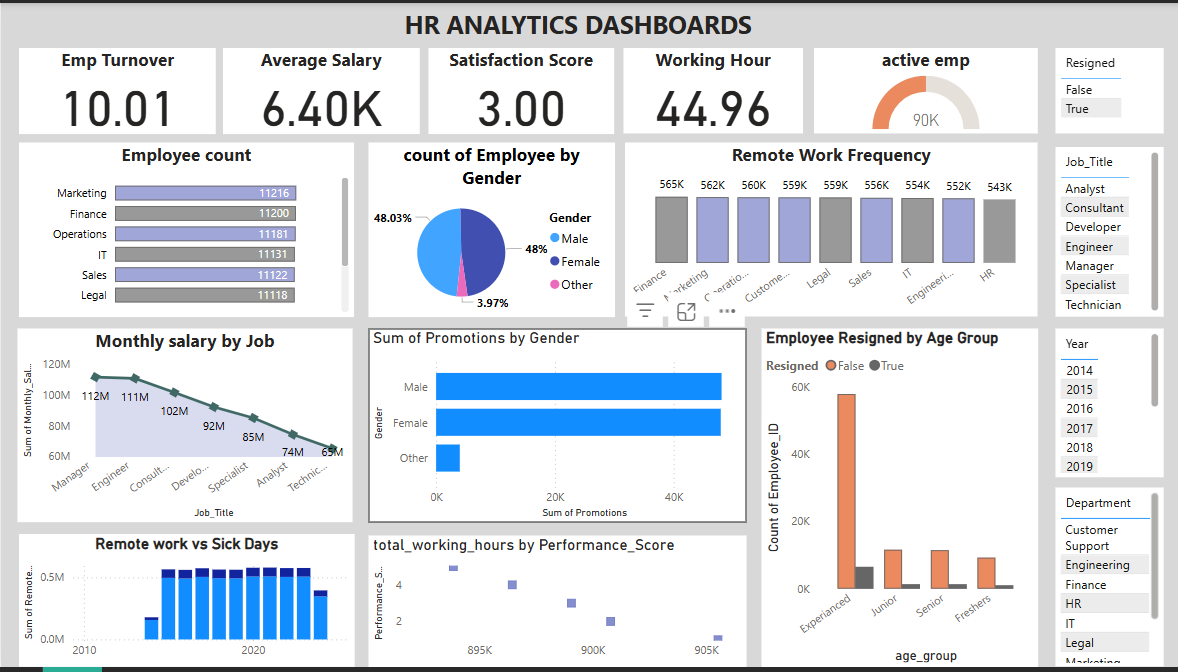

This screenshot's page, from the dashboard's own definition file:
{"tool":"powerbi","page":{"name":"Page 1","canvas":[1280,720],"ordinal":0},"visuals":[{"type":"gauge","fields":{"Y":["Sheet1.active emp"]},"box":[881.4,48.6,242.9,92.9],"z":0},{"type":"card","title":"Emp Turnover","fields":{"Values":["Sheet1.emp_turnover"]},"box":[20,48,213,93],"z":1000},{"type":"card","title":"Average Salary","fields":{"Values":["Sheet1.avg_sal"]},"box":[241,48,213,93],"z":2000},{"type":"card","title":"Satisfaction Score","fields":{"Values":["Sheet1.avg_emp_sat_sco"]},"box":[464,48,201,93],"z":3000},{"type":"card","title":"Working Hour","fields":{"Values":["Sheet1.avg_work_hours_week"]},"box":[675.5,48.2,194.5,92.7],"z":4000},{"type":"clusteredBarChart","title":"Employee count","fields":{"Category":["Sheet1.Department"],"Y":["Sheet1.emp_count"]},"box":[20,152,363,189],"z":5000},{"type":"pieChart","title":"count of Employee by Gender","fields":{"Category":["Sheet1.Gender"],"Y":["CountNonNull(Sheet1.Employee_ID)"]},"box":[398,152,267,189],"z":6000},{"type":"areaChart","title":"Monthly salary by Job","fields":{"Category":["Sheet1.Job_Title"],"Y":["Sum(Sheet1.Monthly_Salary)"]},"box":[18.3,353.3,363.3,210],"z":7000},{"type":"scatterChart","fields":{"X":["Sheet1.total_working_hours"],"Y":["Sheet1.Performance_Score"]},"box":[398.6,577.1,410,142.9],"z":8000},{"type":"clusteredColumnChart","title":"Remote Work Frequency","fields":{"Category":["Sheet1.Department"],"Y":["Sum(Sheet1.Remote_Work_Frequency)"]},"box":[677.1,151.4,447.1,188.6],"z":9000},{"type":"clusteredColumnChart","title":"Employee Resigned by Age Group","fields":{"Y":["CountNonNull(Sheet1.Employee_ID)"],"Category":["Sheet1.age_group"],"Series":["Sheet1.Resigned"]},"box":[824.3,352.9,300,367.1],"z":10000},{"type":"lineStackedColumnComboChart","title":"Remote work vs Sick Days","fields":{"Category":["Sheet1.Hire_Date.Variation.Date Hierarchy.Year"],"Y":["Sum(Sheet1.Remote_Work_Frequency)","Sum(Sheet1.Sick_Days)"]},"box":[19,576,364,144],"z":11000},{"type":"textbox","box":[433.3,0,436.7,48.3],"z":12000},{"type":"barChart","fields":{"Y":["Sum(Sheet1.Promotions)"],"Category":["Sheet1.Gender"]},"box":[398.6,352.9,410,210],"z":13000},{"type":"tableEx","fields":{"Values":["Sheet1.Department"]},"box":[1142.9,525.7,117.1,194.3],"z":14000},{"type":"tableEx","fields":{"Values":["Sheet1.Job_Title"]},"box":[1142.9,155.7,117.1,184.3],"z":15000},{"type":"tableEx","fields":{"Values":["Sheet1.Resigned"]},"box":[1142.9,48.6,117.1,92.9],"z":16000},{"type":"tableEx","fields":{"Values":["Sheet1.Hire_Date.Variation.Date Hierarchy.Year"]},"box":[1142.9,352.9,117.1,161.4],"z":17000}]}

Visuals, with their boxes in screenshot pixels (x1, y1, x2, y2), scaled from the page's 1280x720 canvas onto the 1178x672 screenshot:
gauge - Sheet1.active emp: 811, 45, 1035, 132
"Emp Turnover" card: 18, 45, 214, 132
"Average Salary" card: 222, 45, 418, 132
"Satisfaction Score" card: 427, 45, 612, 132
"Working Hour" card: 622, 45, 801, 132
"Employee count" clusteredBarChart: 18, 142, 352, 318
"count of Employee by Gender" pieChart: 366, 142, 612, 318
"Monthly salary by Job" areaChart: 17, 330, 351, 526
scatterChart - Sheet1.total_working_hours x Sheet1.Performance_Score: 367, 539, 744, 671
"Remote Work Frequency" clusteredColumnChart: 623, 141, 1035, 317
"Employee Resigned by Age Group" clusteredColumnChart: 759, 329, 1035, 671
"Remote work vs Sick Days" lineStackedColumnComboChart: 17, 538, 352, 671
textbox: 399, 0, 801, 45
barChart - Sum(Sheet1.Promotions) x Sheet1.Gender: 367, 329, 744, 525
tableEx - Sheet1.Department: 1052, 491, 1160, 671
tableEx - Sheet1.Job_Title: 1052, 145, 1160, 317
tableEx - Sheet1.Resigned: 1052, 45, 1160, 132
tableEx - Sheet1.Hire_Date.Variation.Date Hierarchy.Year: 1052, 329, 1160, 480
